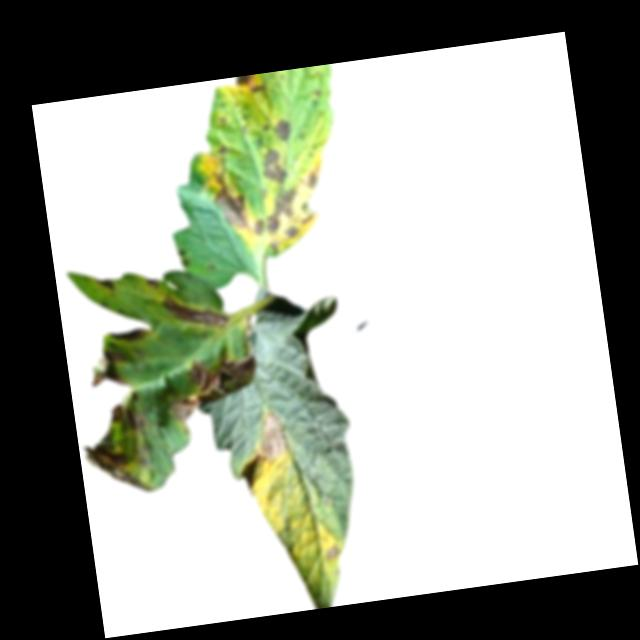Early_blight: (242, 142, 332, 254), (162, 350, 257, 424), (82, 437, 143, 495), (158, 289, 230, 337), (207, 167, 250, 234), (254, 408, 292, 463), (87, 346, 129, 391), (105, 398, 149, 438), (103, 322, 149, 346), (228, 73, 269, 98), (273, 116, 294, 142), (322, 539, 341, 563), (94, 273, 114, 291), (176, 244, 191, 267), (148, 274, 160, 290), (214, 144, 228, 155)
